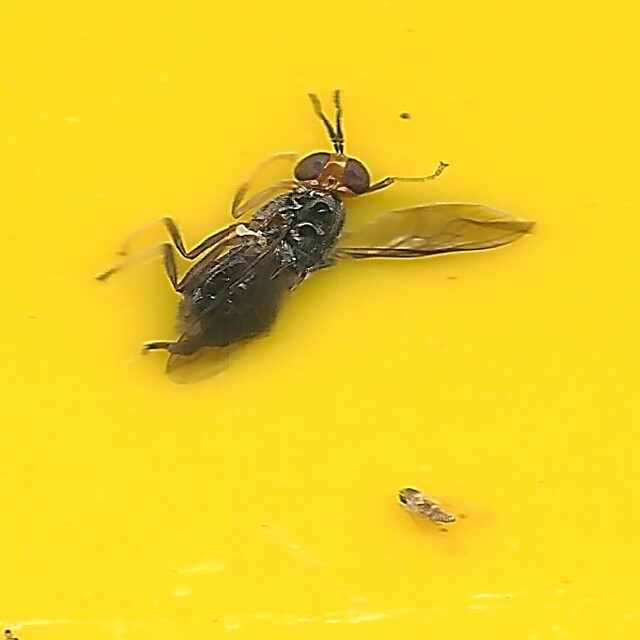Brachycera: (106, 85, 534, 385)
Hemiptera: (396, 485, 486, 555)
